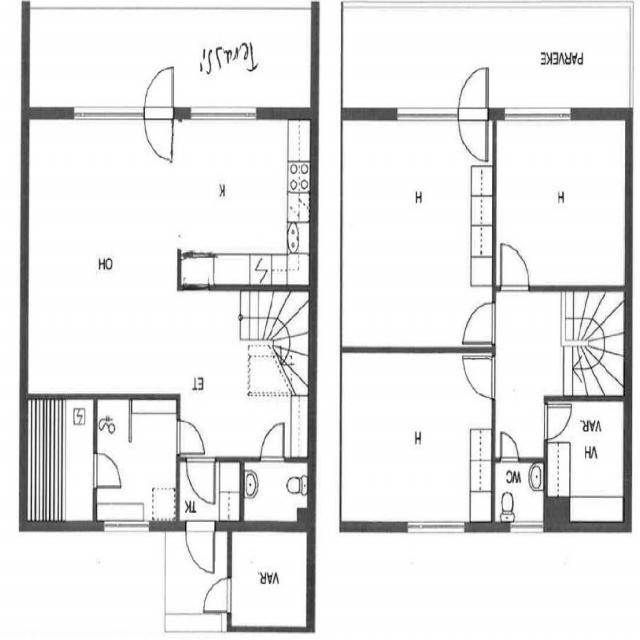door: (458, 66, 488, 121), (458, 108, 488, 162), (144, 67, 173, 119), (144, 108, 173, 160), (186, 521, 214, 572), (187, 457, 215, 503), (464, 302, 495, 343), (501, 245, 528, 291), (464, 357, 495, 397), (544, 405, 572, 439), (260, 423, 284, 462), (176, 420, 204, 453), (204, 578, 231, 612), (93, 454, 120, 487), (501, 433, 519, 463)
